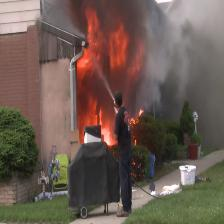fire: (81, 8, 150, 184)
smoke: (49, 0, 224, 101)
